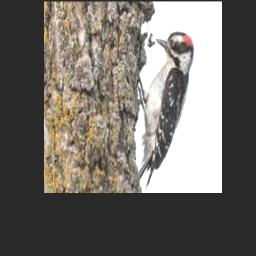Woodpecker: (138, 31, 195, 191)
